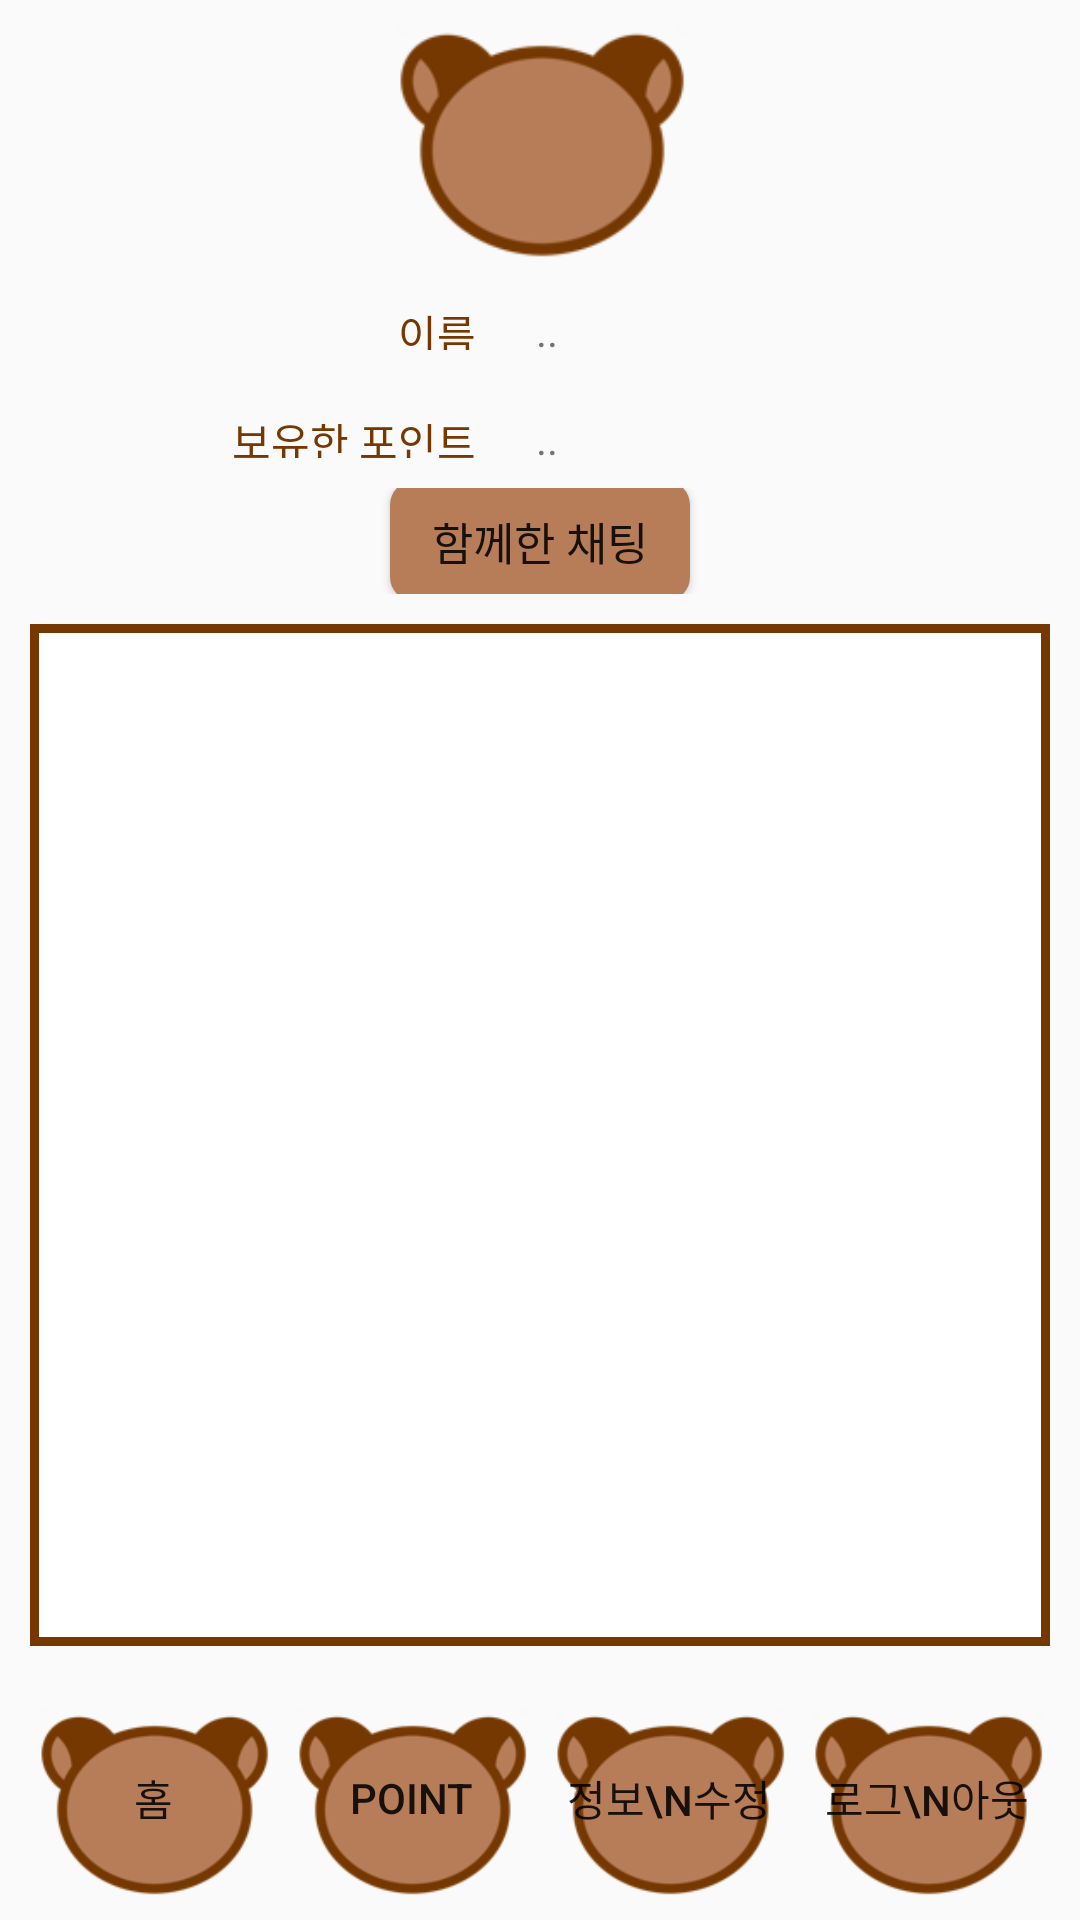

Named icons in this screenshot (1080×1920) and their centers, (x=x, y=y):
bear: (x=542, y=145)
